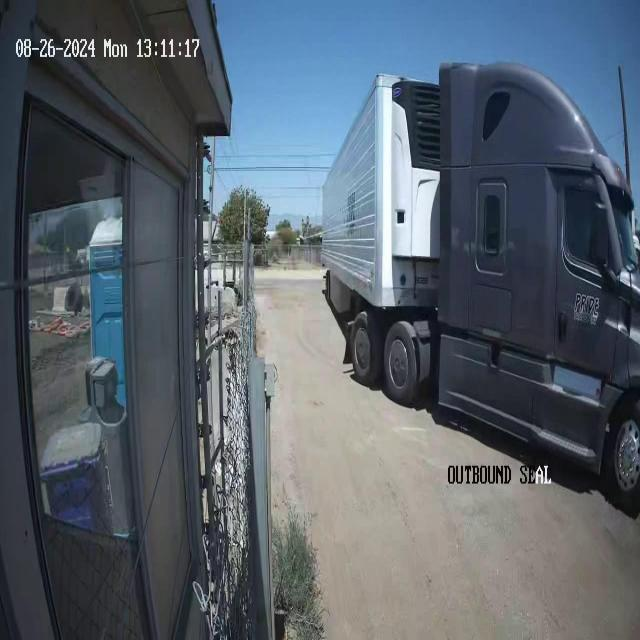TRUCK_IN: (320, 59, 639, 518)
